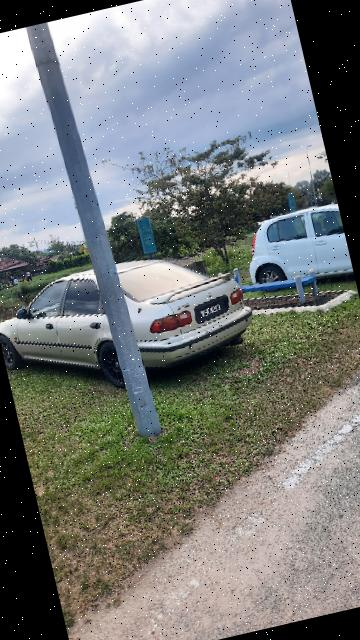License_Plate: (191, 294, 238, 325)
car: (1, 226, 264, 413)
